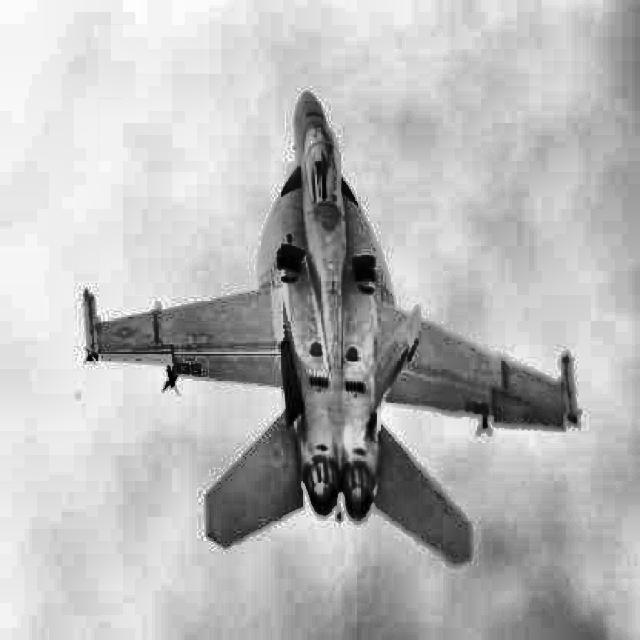F18: (81, 91, 582, 566)
